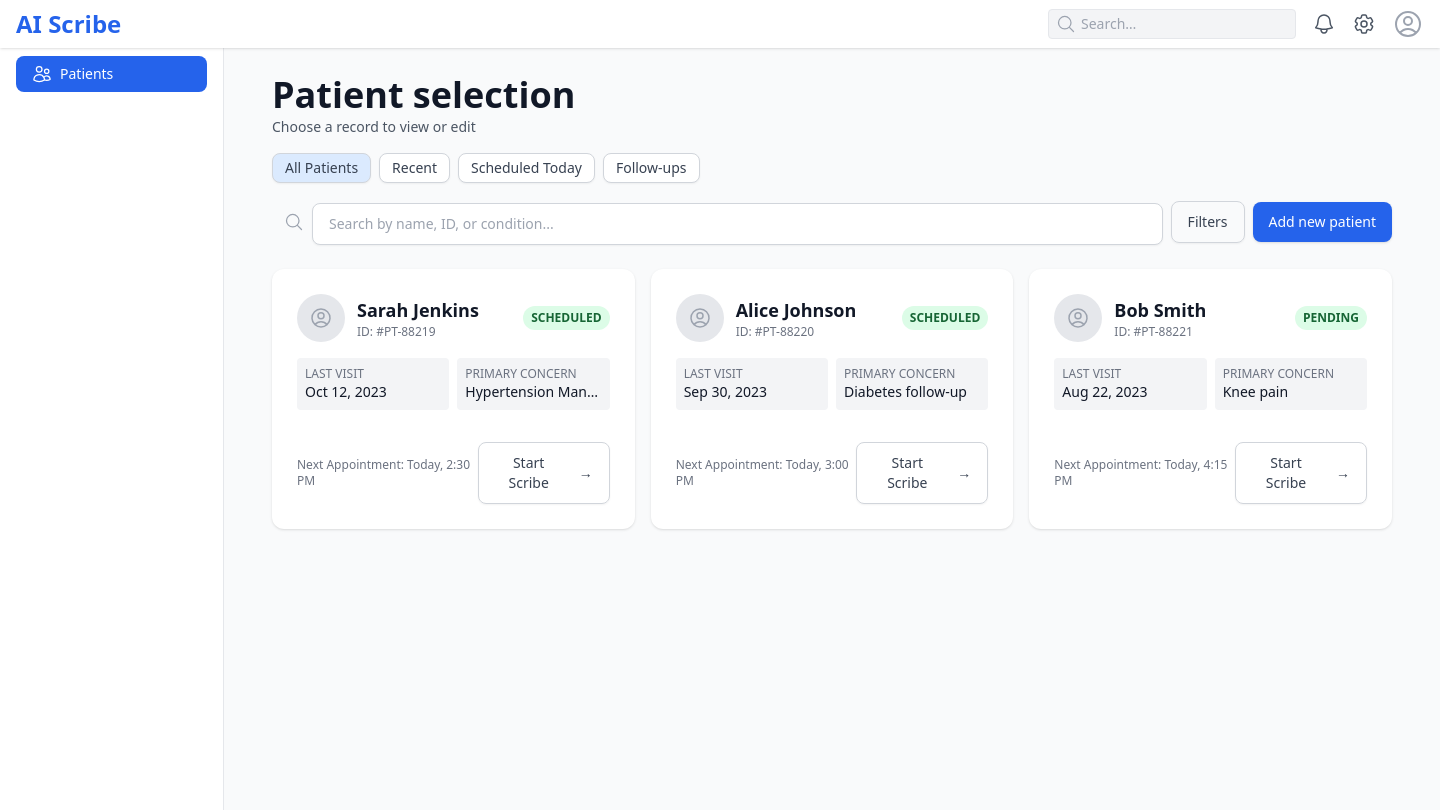
Test: Dashboard view › filters by search term
Type "Alice" into the field with placeholder "Search by name, ID, or condition..." at [737, 224], box [312,203,1163,245]
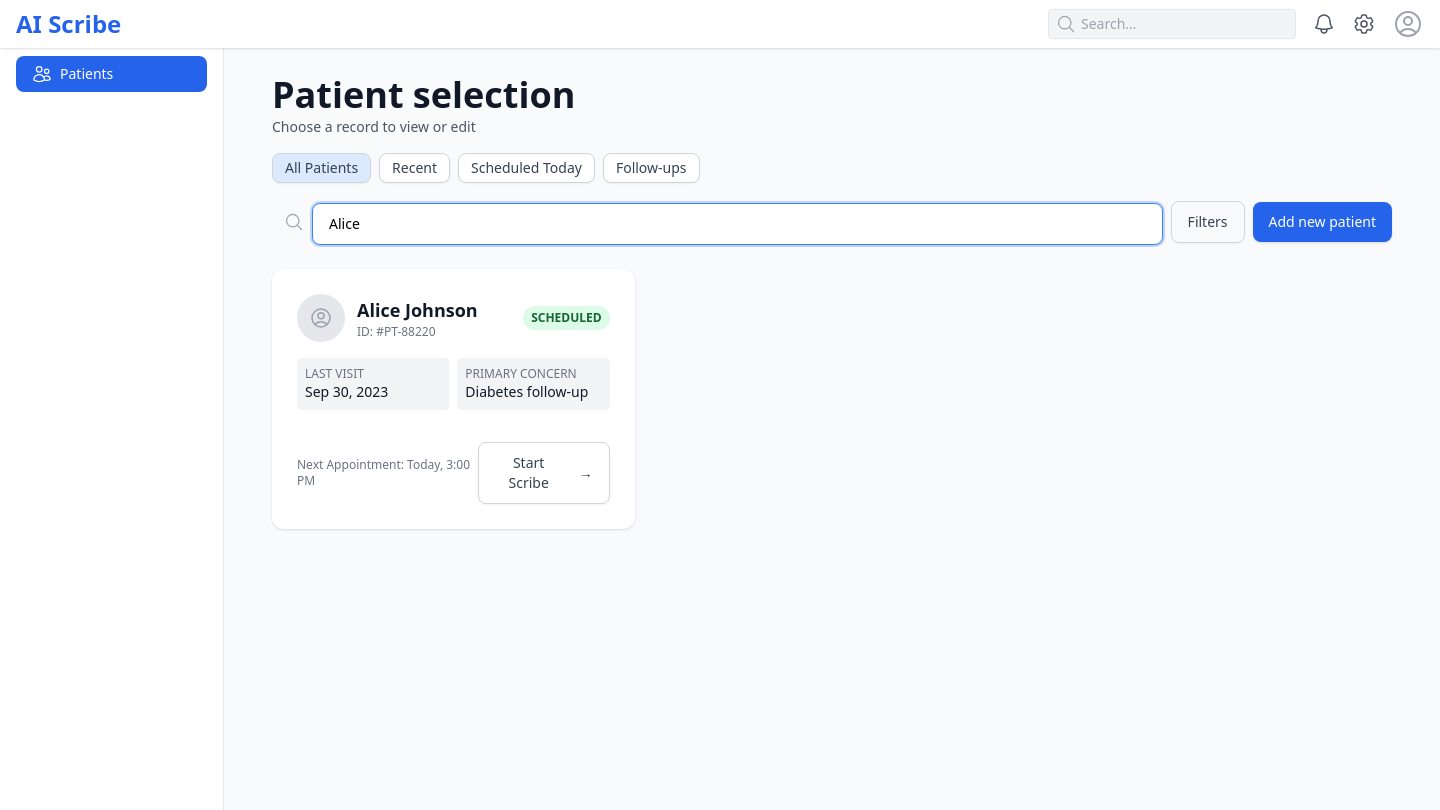
Expected: the heading "Alice Johnson" is shown, [357,296,478,324]
Now the heading "Sarah Jenkins" is gone
Now the heading "Bob Smith" is gone
